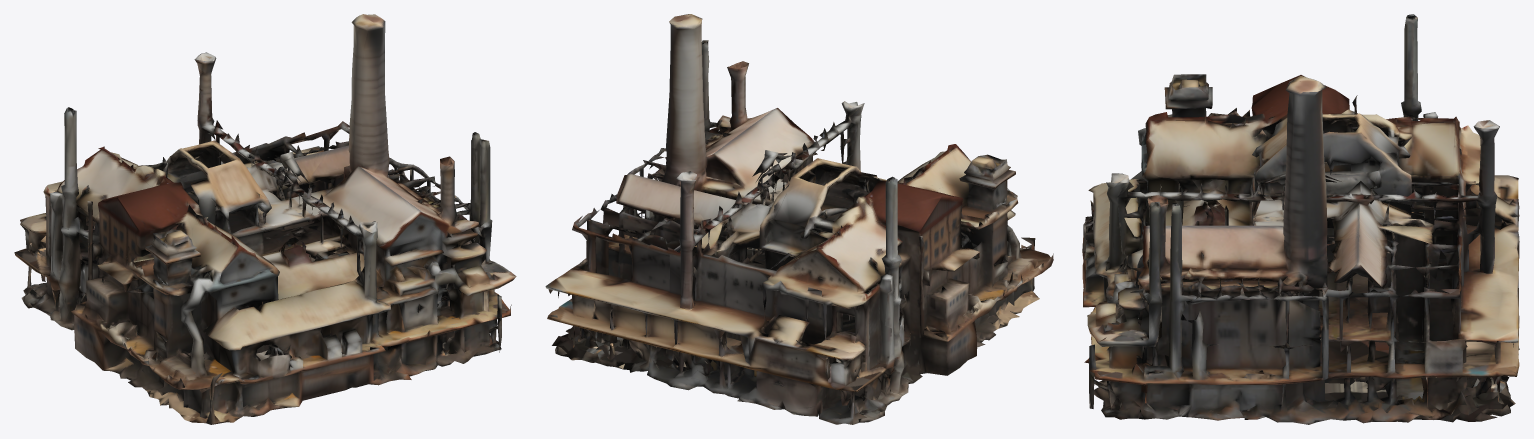
The model's file is factory.glb.
The picture shows the model from 3 angles, left to right: view 1: azimuth 30°, elevation 25°; view 2: azimuth 150°, elevation 25°; view 3: azimuth 270°, elevation 25°; orthographic projection. The views are drawn at different scales.
Size of the model in its own units: 1.91 by 1.5 by 1.91.
1 material, 1 textured.
